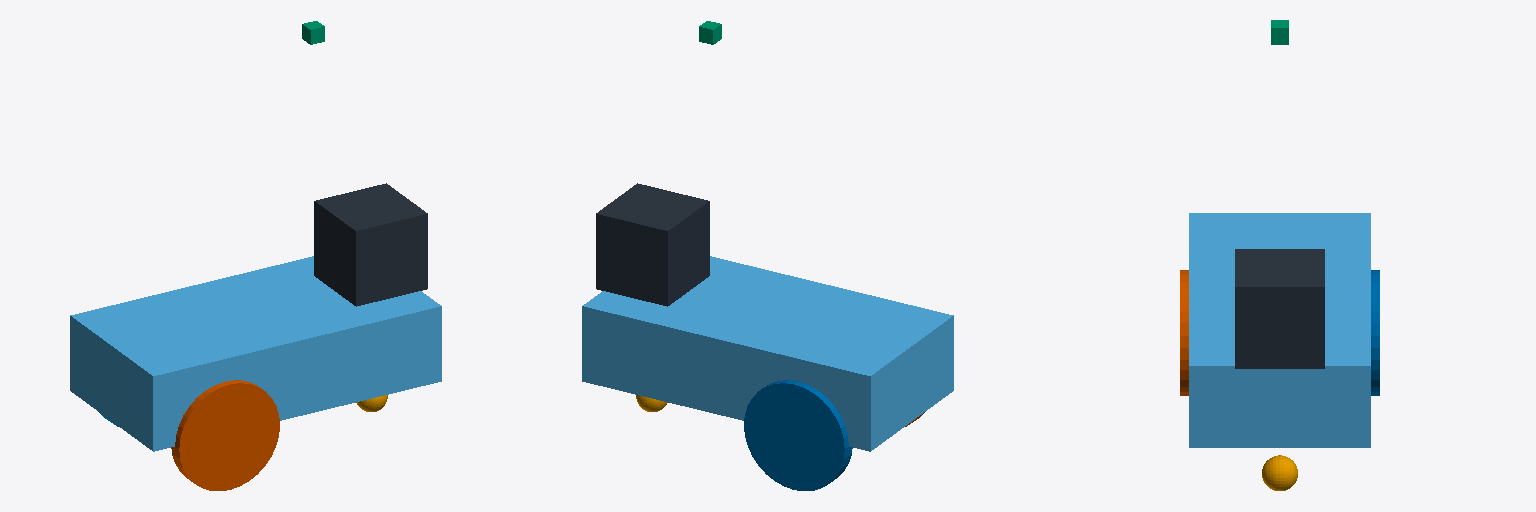
The robot description file, URDF, robot "yolobot":
<?xml version="1.0" ?>
<!-- =================================================================================== -->
<!-- |    This document was autogenerated by xacro from box_bot.xacro                  | -->
<!-- |    EDITING THIS FILE BY HAND IS NOT RECOMMENDED                                 | -->
<!-- =================================================================================== -->
<robot name="yolobot">
  <material name="black">
    <color rgba="0.0 0.0 0.0 1.0"/>
  </material>
  <material name="blue">
    <color rgba="0.203125 0.23828125 0.28515625 1.0"/>
  </material>
  <material name="green">
    <color rgba="0.0 0.8 0.0 1.0"/>
  </material>
  <material name="grey">
    <color rgba="0.2 0.2 0.2 1.0"/>
  </material>
  <material name="orange">
    <color rgba="1.0 0.423529411765 0.0392156862745 1.0"/>
  </material>
  <material name="brown">
    <color rgba="0.870588235294 0.811764705882 0.764705882353 1.0"/>
  </material>
  <material name="red">
    <color rgba="0.80078125 0.12890625 0.1328125 1.0"/>
  </material>
  <material name="white">
    <color rgba="1.0 1.0 1.0 1.0"/>
  </material>
  <gazebo reference="chassis">
    <material>Gazebo/Blue</material>
  </gazebo>
  <gazebo reference="left_wheel">
    <kp>1000.0</kp>
    <kd>1000.0</kd>
    <mu1>0.5</mu1>
    <mu2>0.5</mu2>
    <material>Gazebo/Blue</material>
  </gazebo>
  <gazebo reference="right_wheel">
    <kp>1000.0</kp>
    <kd>1000.0</kd>
    <mu1>0.5</mu1>
    <mu2>0.5</mu2>
    <material>Gazebo/Blue</material>
  </gazebo>
  <!-- ros_control plugin -->
  <gazebo>
    <plugin filename="libgazebo_ros_diff_drive.so" name="differential_drive_controller">
      <update_rate>100</update_rate>
      
      <!-- Wheel Joints - CORRECTED NAMES -->
      <left_joint>joint_left_wheel</left_joint>
      <right_joint>joint_right_wheel</right_joint>

      <!-- Kinematics -->
      <wheel_separation>0.1</wheel_separation>
      <wheel_diameter>0.07</wheel_diameter> <!-- Note: Radius was 0.035, so diameter is 0.07 -->

      <!-- Limits -->
      <max_wheel_torque>20.0</max_wheel_torque>
      <max_wheel_acceleration>5.0</max_wheel_acceleration>

      <!-- Topics -->
      <command_topic>yolobot/cmd_vel</command_topic>
      <odometry_topic>yolobot/odom</odometry_topic>

      <!-- Frames -->
      <odometry_frame>odom</odometry_frame>
      <robot_base_frame>base_link</robot_base_frame>

      <publish_odom>true</publish_odom>
      <publish_odom_tf>true</publish_odom_tf>
      <publish_wheel_tf>false</publish_wheel_tf>
    </plugin>
  </gazebo>

  <link name="base_link">
      </link>
  <link name="chassis">
    <!-- pose and inertial -->
    <pose>0 0 0 0 0 0</pose>
    <inertial>
      <mass value="1.0"/>
      <origin rpy="0 0 0" xyz="0 0 -0.025"/>
      <inertia ixx="0.00033333333333333343" ixy="0" ixz="0" iyy="0.00033333333333333343" iyz="0" izz="0.00033333333333333343"/>
      <inertia ixx="0.000241935" ixy="0" ixz="0" iyy="0.000241935" iyz="0" izz="0.000241935"/>
    </inertial>
    <!-- body -->
    <collision name="collision_chassis">
      <geometry>
        <box size="0.2 0.1 0.05"/>
      </geometry>
    </collision>
    <visual name="visual_chassis">
      <geometry>
        <box size="0.2 0.1 0.05"/>
      </geometry>
    </visual>
  </link>
  <gazebo reference="chassis">
    <material>Gazebo/Red</material>
  </gazebo>
  <joint name="base_link_joint" type="fixed">
    <origin rpy="0 0 0" xyz="0 0 0"/>
    <parent link="base_link"/>
    <child link="chassis"/>
  </joint>


  <!-- CAMERA-->
  <link name='rgb_cam_camera_link'>
		<visual>
			<origin xyz="0 0 0" rpy="0 0 0"/>
			<geometry>
				<box size="0.01 0.01 0.01"/>
			</geometry>
		</visual>
	</link>

  <joint name="rgb_cam_camera_link_joint" type="fixed">
		<origin rpy="0 0 0" xyz="0.04 0.0 0.2"/>
		<parent link="chassis"/>
		<child link="rgb_cam_camera_link"/>
	</joint>


    <link name="rgb_cam_camera_link_frame">
    </link>

    <joint name="rgb_cam_camera_frame_joint" type="fixed">
        <origin xyz="0.01 0 0" rpy="0 0 0" />
        <parent link="rgb_cam_camera_link" />
        <child link="rgb_cam_camera_link_frame" />
        <axis xyz="0 0 0"/>
    </joint>

    <gazebo reference="rgb_cam_camera_link_frame">
      <sensor type="camera" name="rgb_cam">
        <always_on>1</always_on>
        <update_rate>10.0</update_rate>
        <camera name="rgb_cam">
            <pose>0 0 0 0 0 0</pose>
            <horizontal_fov>1.3962634</horizontal_fov>
            <image>
             <width>640</width>
             <height>480</height>
             <format>R8G8B8</format>
            </image>
            <clip>
                <near>0.005</near>
                <far>20.0</far>
            </clip>
        </camera>
        <plugin name="camera_controller" filename="libgazebo_ros_camera.so">
            <alwaysOn>true</alwaysOn>
            <updateRate>0.0</updateRate>
            <cameraName>rgb_cam</cameraName>
            <imageTopicName>image_raw</imageTopicName>
            <cameraInfoTopicName>camera_info</cameraInfoTopicName>
            <frameName>rgb_cam_camera_link_frame</frameName>
            <hackBaseline>0.07</hackBaseline>
            <distortionK1>0.0</distortionK1>
            <distortionK2>0.0</distortionK2>
            <distortionK3>0.0</distortionK3>
            <distortionT1>0.0</distortionT1>
            <distortionT2>0.0</distortionT2>
        </plugin>
      </sensor>
    </gazebo>



  <link name="right_wheel">
    <inertial>
      <mass value="0.2"/>
      <origin rpy="0 1.5707 1.5707" xyz="0 0 0"/>
      <inertia ixx="3.126666666666667e-05" ixy="0" ixz="0" iyy="3.126666666666667e-05" iyz="0" izz="6.250000000000001e-05"/>
    </inertial>
    <collision name="link_right_wheel_collision">
      <origin rpy="0 1.5707 1.5707" xyz="0 0 0"/>
      <geometry>
        <cylinder length="0.01" radius="0.035"/>
      </geometry>
    </collision>
    <visual name="link_right_wheel_visual">
      <origin rpy="0 1.5707 1.5707" xyz="0 0 0"/>
      <geometry>
        <cylinder length="0.01" radius="0.035"/>
      </geometry>
    </visual>
  </link>
  <joint name="joint_right_wheel" type="continuous">
    <origin rpy="0 0 0" xyz="-0.05 0.05 -0.025"/>
    <child link="right_wheel"/>
    <parent link="chassis"/>
    <axis rpy="0 0 0" xyz="0 1 0"/>
    <limit effort="10000" velocity="1000"/>
    <joint_properties damping="1.0" friction="1.0"/>
  </joint>
  <link name="left_wheel">
    <inertial>
      <mass value="0.2"/>
      <origin rpy="0 1.5707 1.5707" xyz="0 0 0"/>
      <inertia ixx="3.126666666666667e-05" ixy="0" ixz="0" iyy="3.126666666666667e-05" iyz="0" izz="6.250000000000001e-05"/>
    </inertial>
    <collision name="link_right_wheel_collision">
      <origin rpy="0 1.5707 1.5707" xyz="0 0 0"/>
      <geometry>
        <cylinder length="0.01" radius="0.035"/>
      </geometry>
    </collision>
    <visual name="link_right_wheel_visual">
      <origin rpy="0 1.5707 1.5707" xyz="0 0 0"/>
      <geometry>
        <cylinder length="0.01" radius="0.035"/>
      </geometry>
    </visual>
  </link>
  <joint name="joint_left_wheel" type="continuous">
    <origin rpy="0 0 0" xyz="-0.05 -0.05 -0.025"/>
    <child link="left_wheel"/>
    <parent link="chassis"/>
    <axis rpy="0 0 0" xyz="0 1 0"/>
    <limit effort="10000" velocity="1000"/>
    <joint_properties damping="1.0" friction="1.0"/>
  </joint>
  <!-- CASTER FRONT-->
  <link name="front_yaw_link">
    <inertial>
      <mass value="0.001"/>
      <origin rpy="0 1.5707 1.5707" xyz="0 0 0"/>
      <inertia ixx="5.145833333333334e-09" ixy="0" ixz="0" iyy="5.145833333333334e-09" iyz="0" izz="1.0125000000000003e-08"/>
    </inertial>
    <collision name="link_right_wheel_collision">
      <origin rpy="0 1.5707 1.5707" xyz="0 0 0"/>
      <geometry>
        <cylinder length="0.001" radius="0.0045000000000000005"/>
      </geometry>
    </collision>
  </link>
  <joint name="front_yaw_joint" type="continuous">
    <origin rpy="0 0 0" xyz="0.08 0 -0.05"/>
    <parent link="chassis"/>
    <child link="front_yaw_link"/>
    <axis xyz="0 0 1"/>
    <limit effort="1000.0" velocity="100.0"/>
    <dynamics damping="0.0" friction="0.1"/>
  </joint>
  <transmission name="front_yaw_joint_trans">
    <type>transmission_interface/SimpleTransmission</type>
    <joint name="front_yaw_joint">
      <hardwareInterface>EffortJointInterface</hardwareInterface>
    </joint>
    <actuator name="front_yaw_jointMotor">
      <hardwareInterface>EffortJointInterface</hardwareInterface>
      <mechanicalReduction>1</mechanicalReduction>
    </actuator>
  </transmission>
  <link name="front_roll_link">
    <inertial>
      <mass value="0.001"/>
      <origin rpy="0 1.5707 1.5707" xyz="0 0 0"/>
      <inertia ixx="5.145833333333334e-09" ixy="0" ixz="0" iyy="5.145833333333334e-09" iyz="0" izz="1.0125000000000003e-08"/>
    </inertial>
    <collision name="link_right_wheel_collision">
      <origin rpy="0 1.5707 1.5707" xyz="0 0 0"/>
      <geometry>
        <cylinder length="0.001" radius="0.0045000000000000005"/>
      </geometry>
    </collision>
  </link>
  <joint name="front_roll_joint" type="continuous">
    <origin rpy="0 0 0" xyz="0 0 0"/>
    <parent link="front_yaw_link"/>
    <child link="front_roll_link"/>
    <axis xyz="1 0 0"/>
    <limit effort="1000.0" velocity="100.0"/>
    <dynamics damping="0.0" friction="0.1"/>
  </joint>
  <transmission name="front_roll_joint_trans">
    <type>transmission_interface/SimpleTransmission</type>
    <joint name="front_roll_joint">
      <hardwareInterface>EffortJointInterface</hardwareInterface>
    </joint>
    <actuator name="front_roll_jointMotor">
      <hardwareInterface>EffortJointInterface</hardwareInterface>
      <mechanicalReduction>1</mechanicalReduction>
    </actuator>
  </transmission>
  <link name="front_pitch_link">
    <inertial>
      <mass value="0.001"/>
      <origin rpy="0 1.5707 1.5707" xyz="0 0 0"/>
      <inertia ixx="4e-08" ixy="0" ixz="0" iyy="4e-08" iyz="0" izz="4e-08"/>
    </inertial>
    <collision name="front_collision">
      <origin rpy="0 1.5707 1.5707" xyz="0 0 0"/>
      <geometry>
        <sphere radius="0.01"/>
      </geometry>
    </collision>
    <visual name="front_visual">
      <origin rpy="0 1.5707 1.5707" xyz="0 0 0"/>
      <geometry>
        <sphere radius="0.01"/>
      </geometry>
    </visual>
  </link>
  <joint name="front_pitch_joint" type="continuous">
    <origin rpy="0 0 0" xyz="0 0 0"/>
    <parent link="front_roll_link"/>
    <child link="front_pitch_link"/>
    <axis xyz="0 1 0"/>
    <limit effort="1000.0" velocity="100.0"/>
    <dynamics damping="0.0" friction="0.1"/>
  </joint>
  <transmission name="front_pitch_joint_trans">
    <type>transmission_interface/SimpleTransmission</type>
    <joint name="front_pitch_joint">
      <hardwareInterface>EffortJointInterface</hardwareInterface>
    </joint>
    <actuator name="front_pitch_jointMotor">
      <hardwareInterface>EffortJointInterface</hardwareInterface>
      <mechanicalReduction>1</mechanicalReduction>
    </actuator>
  </transmission>
  <gazebo reference="front_pitch_link">
    <kp>1000000000000000000000000000.0</kp>
    <kd>1000000000000000000000000000.0</kd>
    <mu1>0.5</mu1>
    <mu2>0.5</mu2>
    <material>Gazebo/Green</material>
  </gazebo>

  <!-- New Link for the LiDAR sensor -->
  <link name="lidar_link">
    <visual>
      <geometry>
        <box size="0.05 0.05 0.05"/>
      </geometry>
      <material name="blue"/>
    </visual>
    <collision>
      <geometry>
        <box size="0.05 0.05 0.05"/>
      </geometry>
    </collision>
    <inertial>
      <mass value="0.1"/>
      <inertia ixx="0.0001" ixy="0.0" ixz="0.0" iyy="0.0001" iyz="0.0" izz="0.0001"/>
    </inertial>
  </link>
  <joint name="lidar_joint" type="fixed">
    <parent link="chassis"/>
    <child link="lidar_link"/>
    <origin xyz="0.08 0 0.05" rpy="0 0 0"/> <!-- Mount it on the front of the chassis, slightly above -->
  </joint>

  <!-- New Link for the IMU sensor (can be invisible) -->
  <link name="imu_link"/>
  <joint name="imu_joint" type="fixed">
    <parent link="chassis"/>
    <child link="imu_link"/>
    <origin xyz="0 0 0" rpy="0 0 0"/> <!-- Mount it at the center of the chassis -->
  </joint>

  <!-- Modern LiDAR Sensor Plugin -->
  <gazebo reference="lidar_link">
    <sensor name="lidar" type="ray">
      <always_on>true</always_on>
      <visualize>true</visualize>
      <update_rate>10</update_rate>
      <ray>
        <scan>
          <horizontal>
            <samples>360</samples>
            <resolution>1</resolution>
            <min_angle>-3.14159</min_angle>
            <max_angle>3.14159</max_angle>
          </horizontal>
        </scan>
        <range>
          <min>0.12</min>
          <max>12.0</max>
          <resolution>0.015</resolution>
        </range>
        <noise>
          <type>gaussian</type>
          <mean>0.0</mean>
          <stddev>0.01</stddev>
        </noise>
      </ray>
      <plugin name="gazebo_ros_ray_sensor" filename="libgazebo_ros_ray_sensor.so">
        <ros>
          <output_type>sensor_msgs/PointCloud2</output_type>
          <topic>scan</topic>
        </ros>
        <frame_name>lidar_link</frame_name>
      </plugin>
    </sensor>
  </gazebo>

  <!-- Modern IMU Sensor Plugin -->
  <gazebo reference="imu_link">
    <sensor name="imu_sensor" type="imu">
      <always_on>true</always_on>
      <update_rate>100</update_rate>
      <plugin name="gazebo_ros_imu_sensor" filename="libgazebo_ros_imu_sensor.so">
        <ros>
          <topic>imu/data</topic>
        </ros>
        <initial_orientation_as_reference>false</initial_orientation_as_reference>
      </plugin>
    </sensor>
  </gazebo>
  
</robot>

--- What the picture shows (computed from the rendered views, not written in the file) ---
3 views of the same robot in one strip: view 1: azimuth 30°, elevation 25°; view 2: azimuth 150°, elevation 25°; view 3: azimuth 270°, elevation 25° (orthographic).
Model yolobot with 11 links and 10 joints (5 continuous, 5 fixed), rooted at base_link, posed every joint at zero.
Links seen in each view (by area): view 1: chassis, lidar_link, left_wheel; view 2: chassis, lidar_link, right_wheel; view 3: chassis, lidar_link, right_wheel, left_wheel, front_pitch_link.
Boxes of the visible links, x1=… form: chassis: x1=70, y1=256, x2=441, y2=451; lidar_link: x1=314, y1=183, x2=427, y2=306; left_wheel: x1=171, y1=380, x2=279, y2=490; chassis: x1=582, y1=256, x2=953, y2=451; lidar_link: x1=596, y1=183, x2=709, y2=306; right_wheel: x1=744, y1=380, x2=852, y2=490; chassis: x1=1189, y1=213, x2=1370, y2=447; lidar_link: x1=1235, y1=249, x2=1324, y2=368; right_wheel: x1=1371, y1=270, x2=1379, y2=395; left_wheel: x1=1180, y1=270, x2=1188, y2=395; front_pitch_link: x1=1262, y1=455, x2=1297, y2=490.
Size in the robot's own frame: 0.205 by 0.11 by 0.265 metres.
Geometry: primitives only (box / cylinder / sphere), no mesh files.
